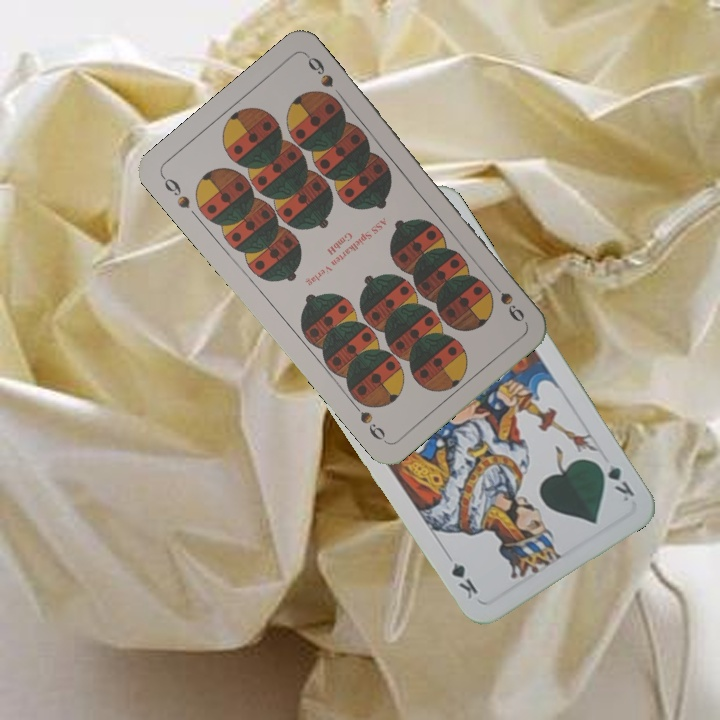GK: (592, 456, 638, 504)
S9: (485, 275, 528, 325), (158, 171, 193, 211)
